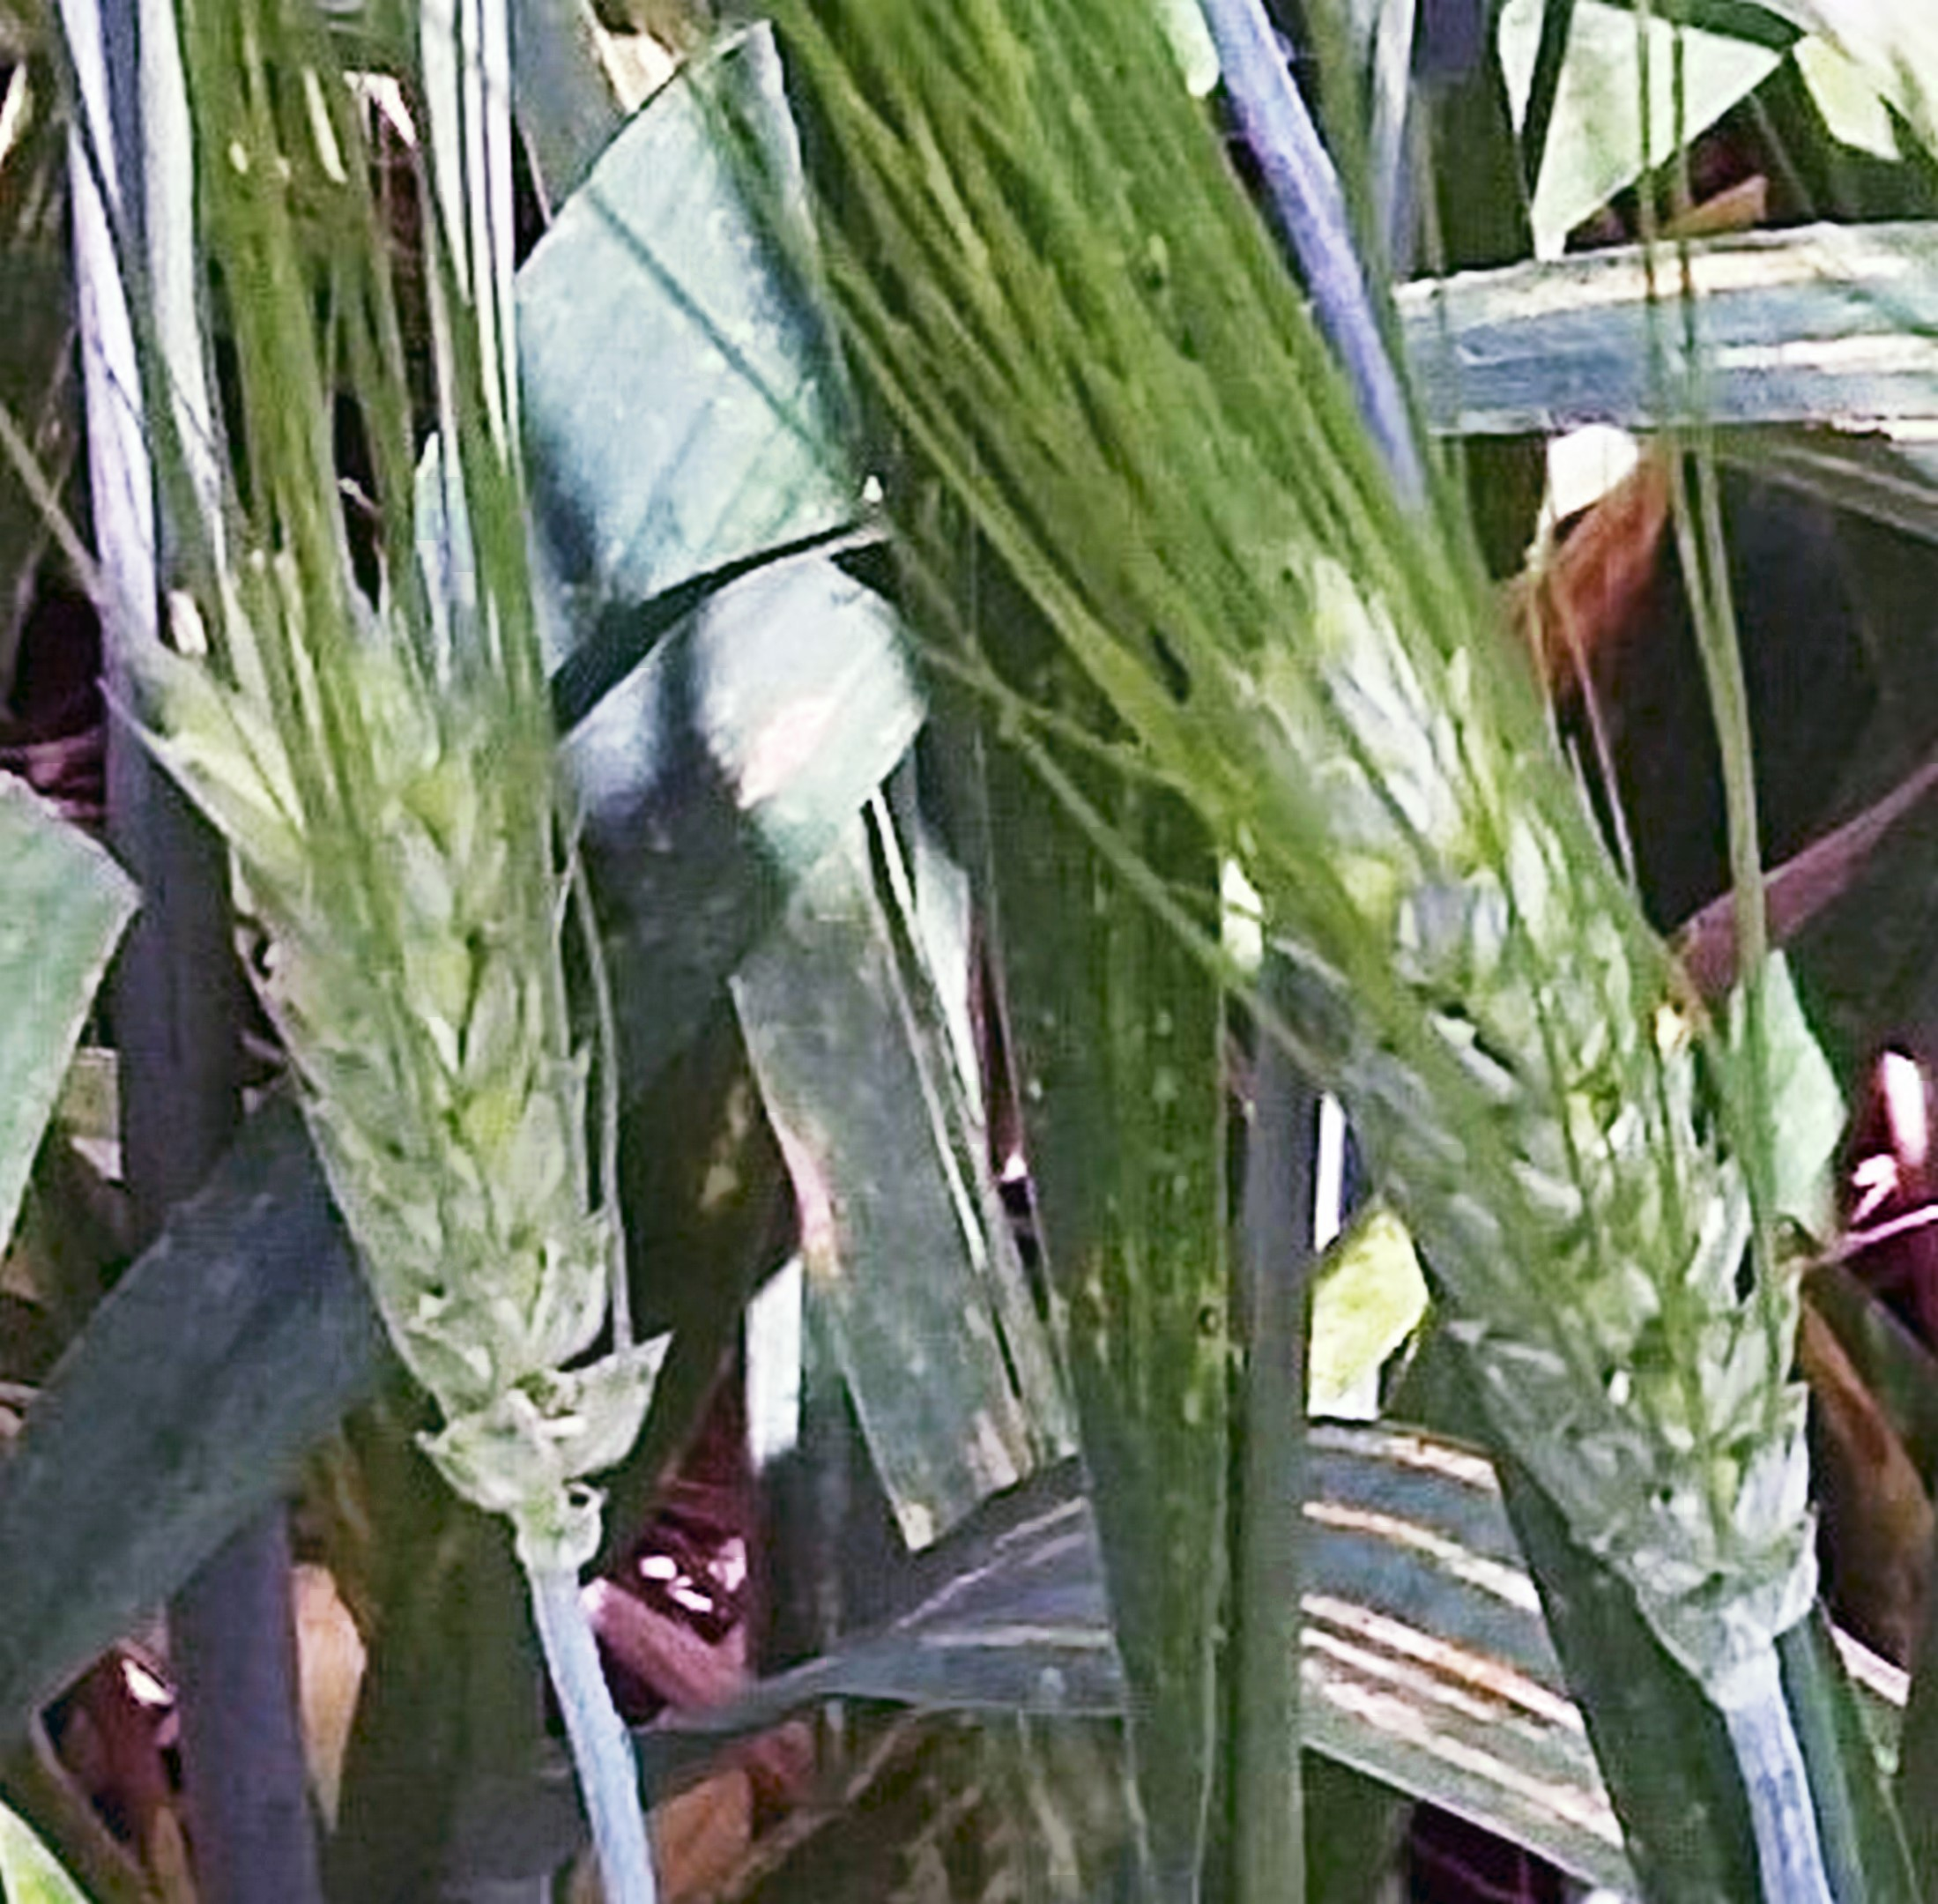Healthy Wheat: (1112, 600, 1884, 1651), (129, 554, 716, 1541)
